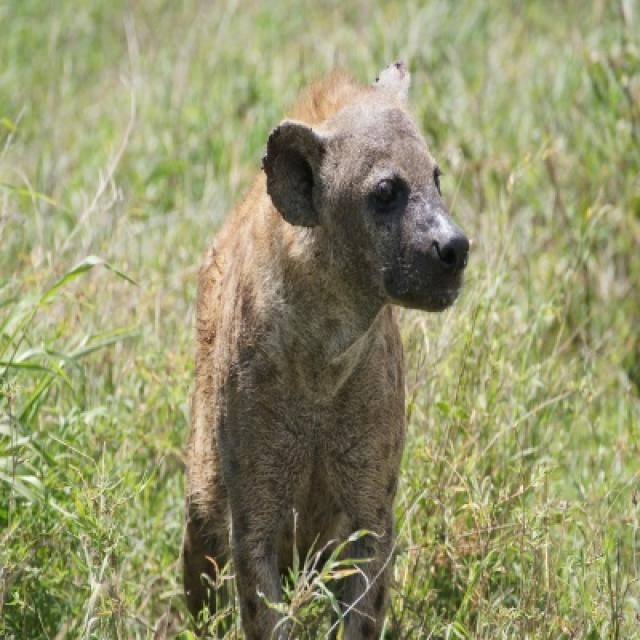hyena: (181, 61, 470, 638)
